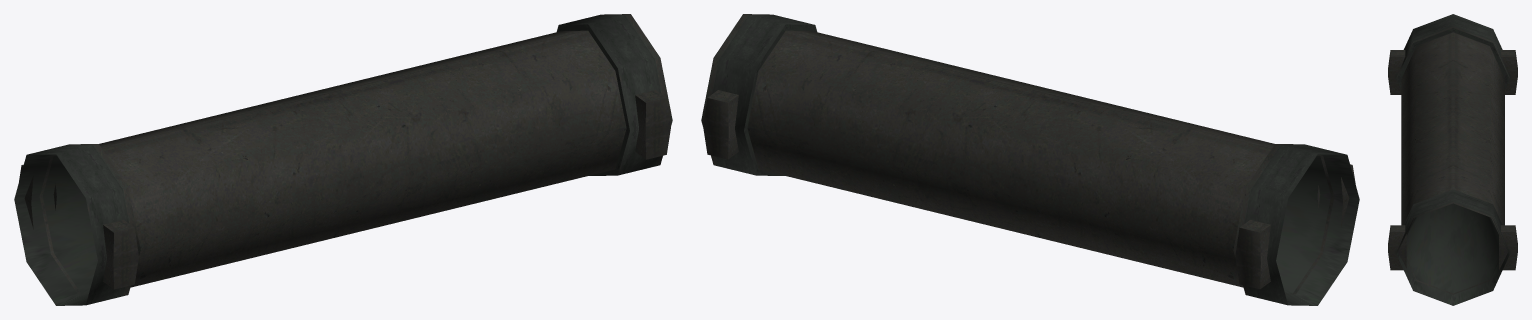
Rendered from com_pipe_8x64_single_metal_lod1.glb.
3 views of the same model, side by side, from view 1: azimuth 30°, elevation 25°; view 2: azimuth 150°, elevation 25°; view 3: azimuth 270°, elevation 25° (orthographic). The views are drawn at different scales.
Parts seen in each view (by area): view 1: surf0; view 2: surf0; view 3: surf0.
Boxes of the visible parts, x1,y1,x2,y2 form: surf0: (14, 14, 672, 305); surf0: (701, 14, 1359, 305); surf0: (1388, 14, 1517, 305).
Size of the model in its own units: 69.13 by 17.44 by 20.03.
